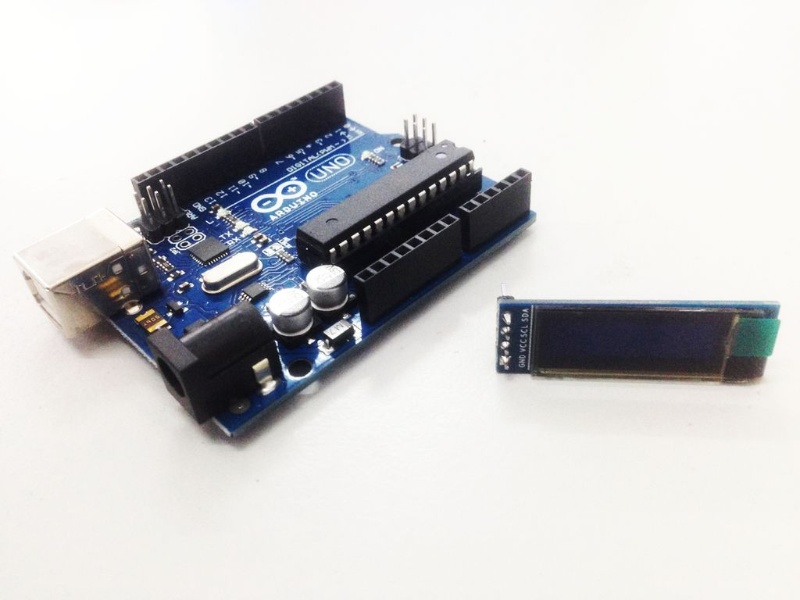uno: (7, 67, 557, 448)
